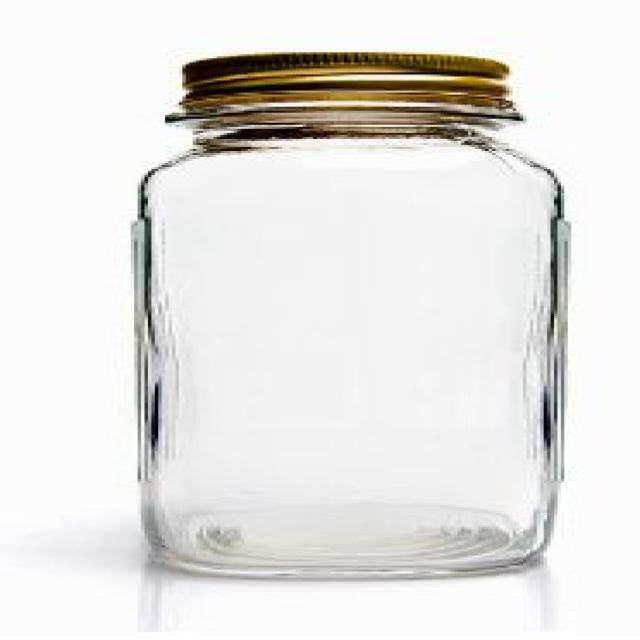electronic: (122, 49, 579, 593)
